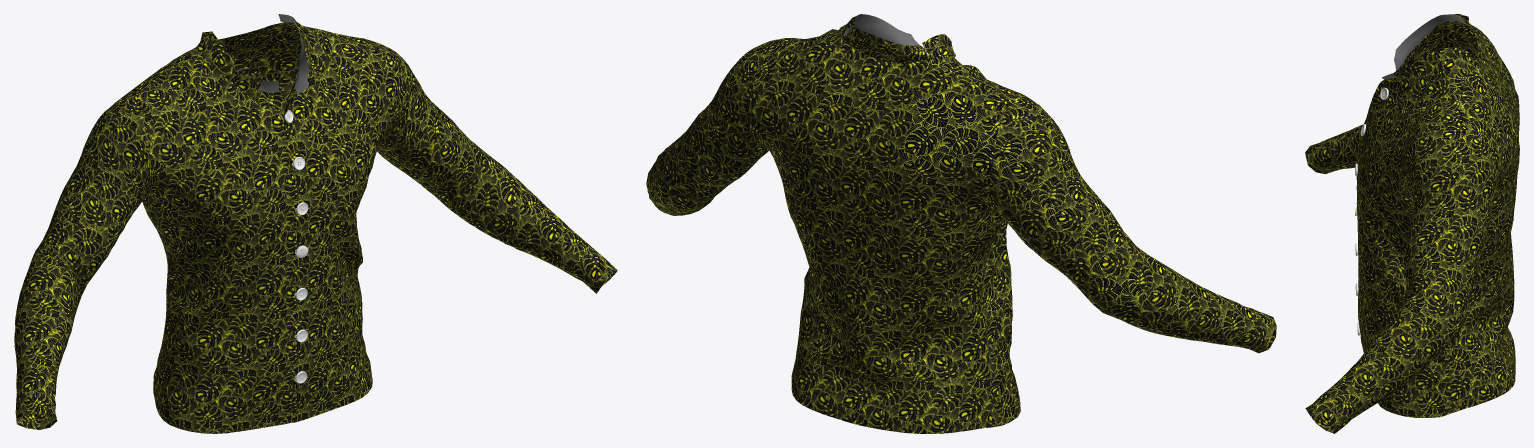
The model's file is Baju_Panjang.fbx.
The picture shows the model from 3 angles, left to right: view 1: azimuth 30°, elevation 25°; view 2: azimuth 150°, elevation 25°; view 3: azimuth 270°, elevation 25°; orthographic projection. The views are drawn at different scales.
Parts seen in each view (by area): view 1: Baju_Panjang.003; view 2: Baju_Panjang.003; view 3: Baju_Panjang.003.
Part boxes in pixels (x1,y1,x2,y2): Baju_Panjang.003: (14, 14, 617, 433); Baju_Panjang.003: (646, 14, 1276, 433); Baju_Panjang.003: (1305, 14, 1519, 433).
Bounding box in the file's own units: 1060 × 619 × 349.
4 materials, 2 textured.
